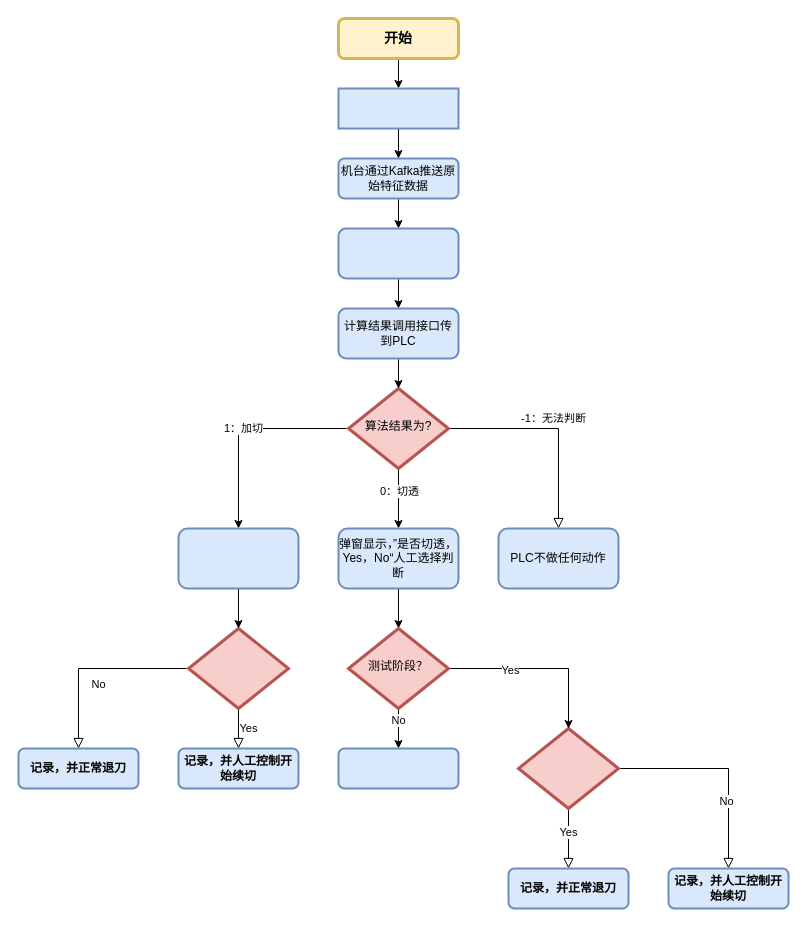
Image size: 806x927. Some labels were removed from this diagram. Here are the shapes that lost their labels. From the top down, the box of each, then its label:
(337, 87, 459, 129): 检测到最后一个周期
(337, 227, 459, 279): 算法计算结果0：切透；1：加切；-1：无法判断
(177, 527, 299, 589): 弹窗显示，”是否加切，Yes，No“人工选择判断
(186, 626, 290, 710): 人工判断加切？
(337, 747, 459, 789): 记录，并直接退刀
(516, 726, 620, 810): 人工判断切透？
